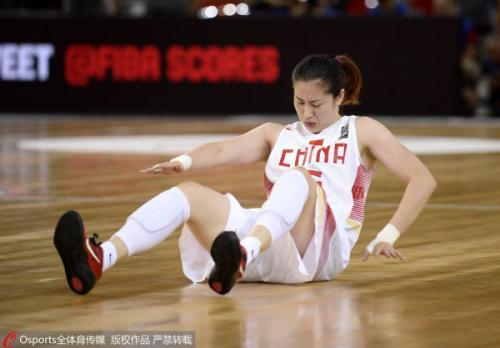bending: (47, 46, 441, 299)
